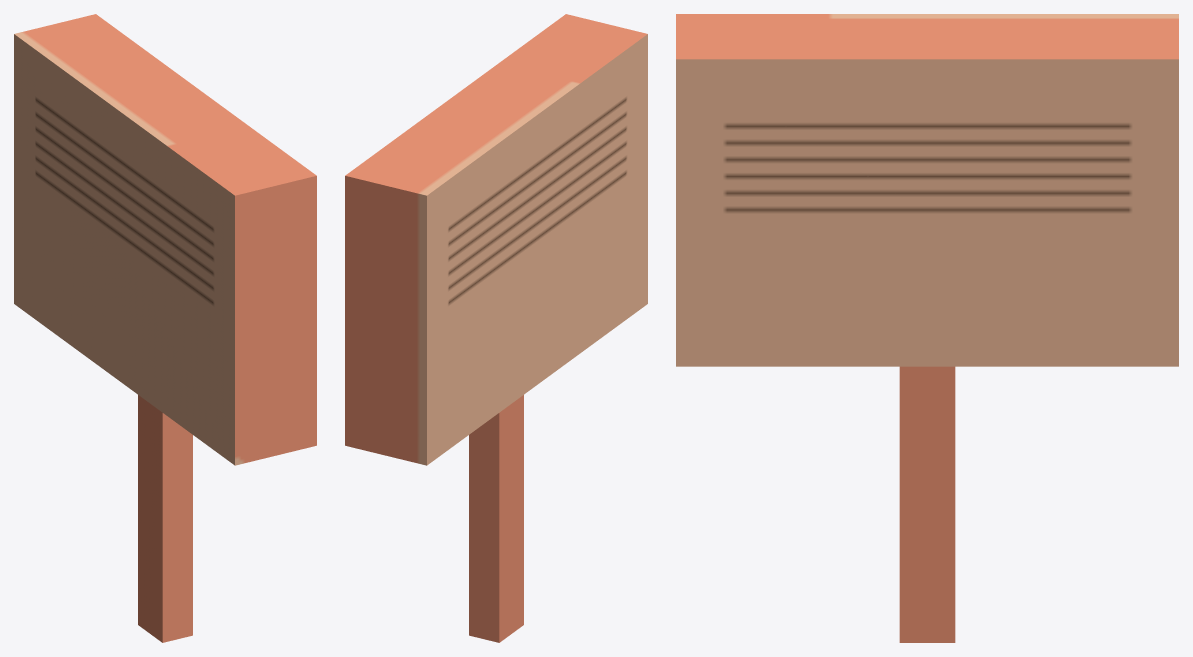
File: Tablet.fbx
The picture shows the model from 3 angles, left to right: view 1: azimuth 30°, elevation 25°; view 2: azimuth 150°, elevation 25°; view 3: azimuth 270°, elevation 25°; orthographic projection. The views are drawn at different scales.
Visible parts, largest first — view 1: Tablet; view 2: Tablet; view 3: Tablet.
Part boxes in pixels (x1,y1,x2,y2): Tablet: [14, 14, 316, 642]; Tablet: [345, 14, 647, 642]; Tablet: [676, 14, 1178, 642].
Bounding box in the file's own units: 6.42 × 39.36 × 30.
